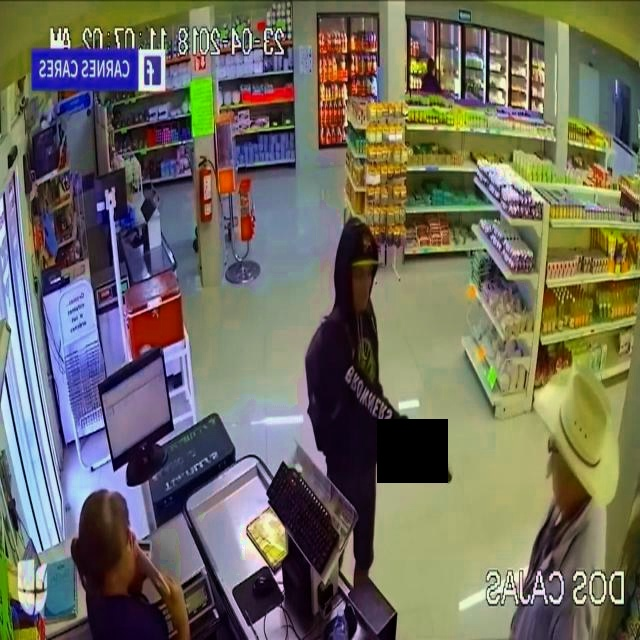gun: (413, 410, 462, 513)
